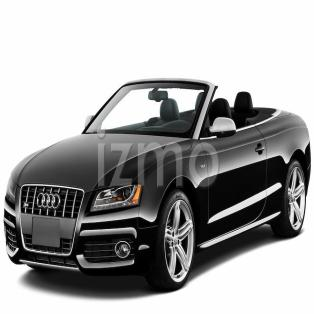Auto: (2, 78, 313, 291)
